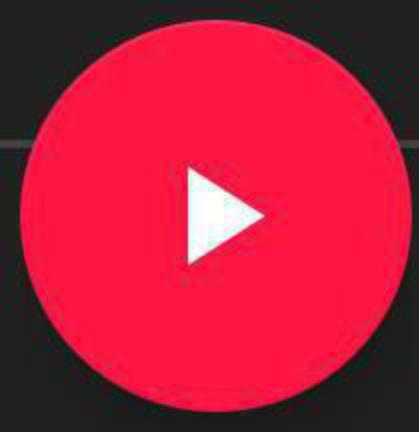ImgButton: (1, 1, 418, 431)
